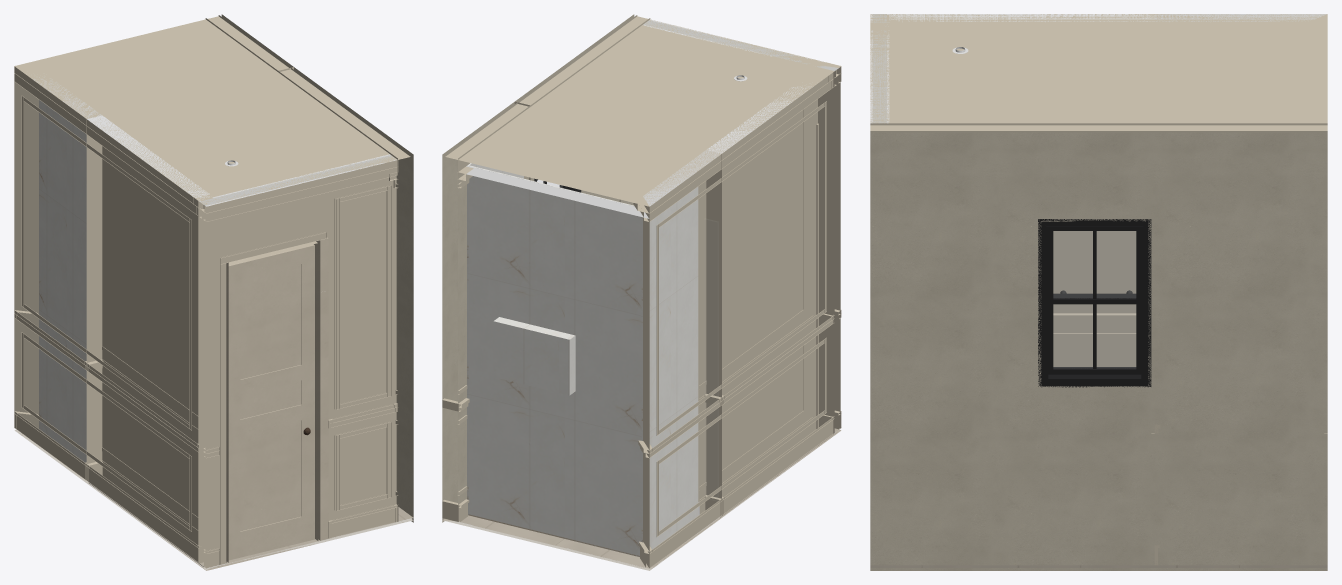
File: loli-bathroom-1f6ec5757ff1.glb
3 views of the same model, side by side, from view 1: azimuth 30°, elevation 25°; view 2: azimuth 150°, elevation 25°; view 3: azimuth 270°, elevation 25° (orthographic). The views are drawn at different scales.
Parts seen in each view (by area): view 1: loli-bathroom-2575515a05775d9e, loli-bathroom-03bdd0165789d12b, loli-bathroom-0e637d2be41161fb, loli-bathroom-eceff908bd344cec, loli-bathroom-5795d1714989146e, loli-bathroom-e64cabe238f3e83a, loli-bathroom-319244b3406409d9, loli-bathroom-4a0606b58a607568, loli-bathroom-a8b6749dbb482e83, loli-bathroom-609bc1027670cc96, loli-bathroom-cc15fd6f291c811e, loli-bathroom-92c333610bf7beb4 (+19 smaller); view 2: loli-bathroom-51561c1911f47dcb, loli-bathroom-2575515a05775d9e, loli-bathroom-03bdd0165789d12b, loli-bathroom-5795d1714989146e, loli-bathroom-1c7325212038a6e7, loli-bathroom-e462de76b61e99cf, loli-bathroom-a90dd75c175210c7, loli-bathroom-0e637d2be41161fb, loli-bathroom-e64cabe238f3e83a, loli-bathroom-a8b6749dbb482e83, loli-bathroom-cc15fd6f291c811e, loli-bathroom-92c333610bf7beb4 (+13 smaller); view 3: loli-bathroom-319244b3406409d9, loli-bathroom-e462de76b61e99cf, loli-bathroom-2575515a05775d9e, loli-bathroom-15d1eb52c435a27e, loli-bathroom-03bdd0165789d12b, loli-bathroom-0e637d2be41161fb, loli-bathroom-3b0077416469e01b, loli-bathroom-76fec1e12e3db62a, loli-bathroom-1c7325212038a6e7, loli-bathroom-3b79cb6a0eb20f8c, loli-bathroom-687fd4d2e321b111.
Boxes of the visible parts, x1=… form: loli-bathroom-2575515a05775d9e: x1=14, y1=15, x2=410, y2=201; loli-bathroom-03bdd0165789d12b: x1=86, y1=115, x2=209, y2=560; loli-bathroom-0e637d2be41161fb: x1=198, y1=154, x2=397, y2=568; loli-bathroom-eceff908bd344cec: x1=228, y1=244, x2=314, y2=560; loli-bathroom-5795d1714989146e: x1=39, y1=100, x2=86, y2=462; loli-bathroom-e64cabe238f3e83a: x1=14, y1=78, x2=38, y2=428; loli-bathroom-319244b3406409d9: x1=278, y1=67, x2=413, y2=521; loli-bathroom-4a0606b58a607568: x1=318, y1=237, x2=328, y2=540; loli-bathroom-a8b6749dbb482e83: x1=14, y1=412, x2=199, y2=562; loli-bathroom-609bc1027670cc96: x1=206, y1=160, x2=398, y2=221; loli-bathroom-cc15fd6f291c811e: x1=14, y1=67, x2=199, y2=216; loli-bathroom-92c333610bf7beb4: x1=21, y1=96, x2=191, y2=430; loli-bathroom-51561c1911f47dcb: x1=467, y1=165, x2=642, y2=556; loli-bathroom-2575515a05775d9e: x1=445, y1=15, x2=840, y2=206; loli-bathroom-03bdd0165789d12b: x1=707, y1=86, x2=833, y2=482; loli-bathroom-5795d1714989146e: x1=641, y1=187, x2=698, y2=549; loli-bathroom-1c7325212038a6e7: x1=643, y1=150, x2=721, y2=567; loli-bathroom-e462de76b61e99cf: x1=442, y1=102, x2=530, y2=502; loli-bathroom-a90dd75c175210c7: x1=493, y1=317, x2=575, y2=395; loli-bathroom-0e637d2be41161fb: x1=643, y1=19, x2=840, y2=433; loli-bathroom-e64cabe238f3e83a: x1=458, y1=165, x2=649, y2=548; loli-bathroom-a8b6749dbb482e83: x1=649, y1=416, x2=834, y2=567; loli-bathroom-cc15fd6f291c811e: x1=649, y1=72, x2=834, y2=221; loli-bathroom-92c333610bf7beb4: x1=656, y1=101, x2=826, y2=435; loli-bathroom-319244b3406409d9: x1=870, y1=123, x2=1155, y2=565; loli-bathroom-e462de76b61e99cf: x1=1155, y1=123, x2=1327, y2=565; loli-bathroom-2575515a05775d9e: x1=870, y1=14, x2=1327, y2=132; loli-bathroom-15d1eb52c435a27e: x1=1038, y1=219, x2=1151, y2=387; loli-bathroom-03bdd0165789d12b: x1=889, y1=14, x2=1155, y2=366; loli-bathroom-0e637d2be41161fb: x1=870, y1=14, x2=889, y2=123; loli-bathroom-3b0077416469e01b: x1=870, y1=565, x2=1327, y2=567; loli-bathroom-76fec1e12e3db62a: x1=870, y1=568, x2=1327, y2=570; loli-bathroom-1c7325212038a6e7: x1=1155, y1=14, x2=1326, y2=21; loli-bathroom-3b79cb6a0eb20f8c: x1=1053, y1=313, x2=1136, y2=323; loli-bathroom-687fd4d2e321b111: x1=872, y1=14, x2=883, y2=123.
Bounding box in the file's own units: 1.8 × 3.05 × 2.88.
36 materials, 7 textured.
